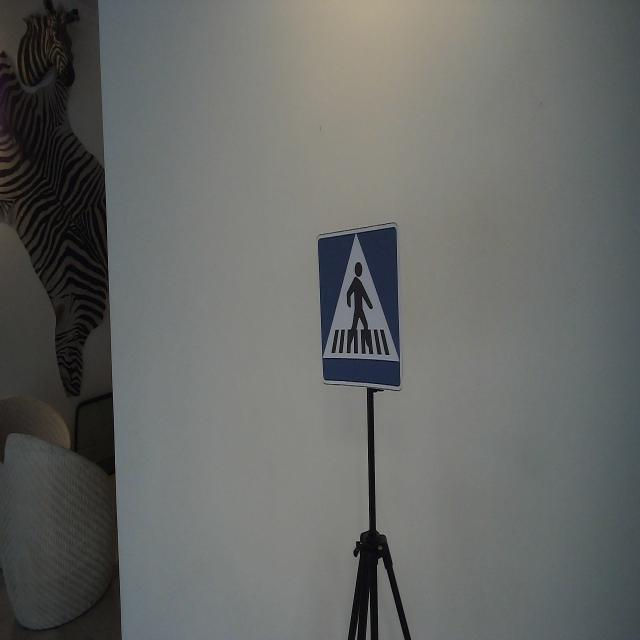crosswalk_sign: (314, 220, 404, 396)
